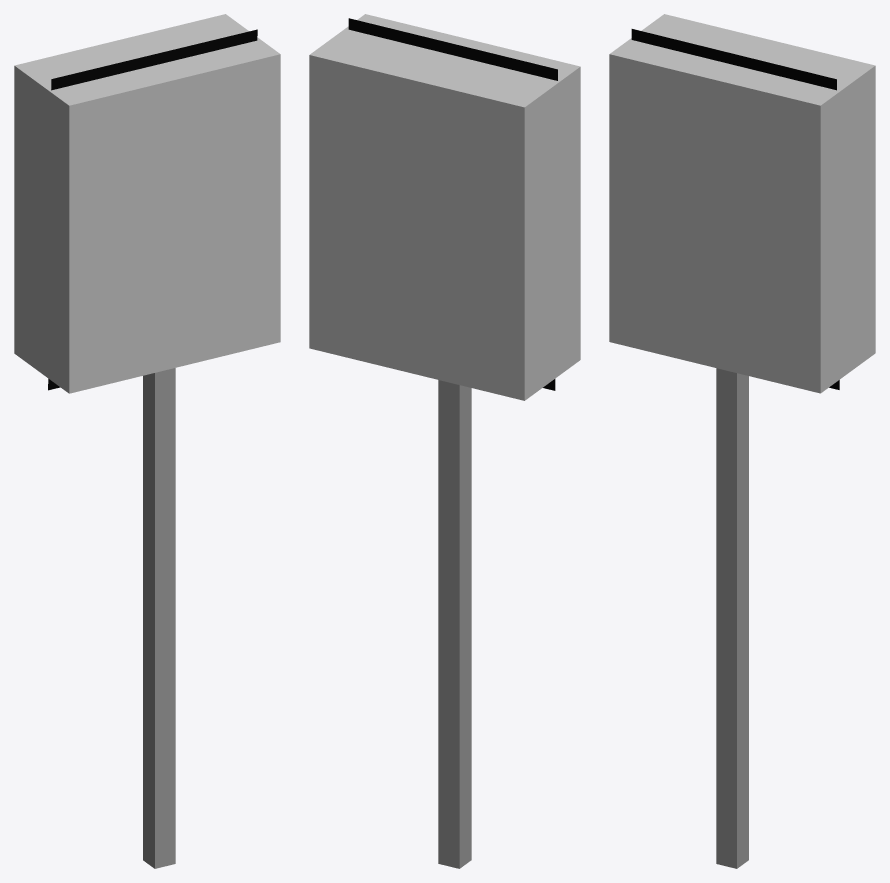
File: rectangleSign.obj
3 renders of one model, left to right at view 1: azimuth 30°, elevation 25°; view 2: azimuth 150°, elevation 25°; view 3: azimuth 330°, elevation 25°, orthographic.
Parts seen in each view (by area): view 1: Cube.002, Cube.001, Plane_Plane.001; view 2: Cube.002, Cube.001, Plane_Plane.001; view 3: Cube.002, Cube.001, Plane_Plane.001.
Part boxes in pixels (left/top/right/bottom): Cube.002: left=14, top=14, right=280, bottom=393; Cube.001: left=143, top=368, right=175, bottom=868; Plane_Plane.001: left=48, top=29, right=257, bottom=390; Cube.002: left=309, top=14, right=580, bottom=400; Cube.001: left=438, top=380, right=471, bottom=868; Plane_Plane.001: left=348, top=18, right=557, bottom=390; Cube.002: left=609, top=14, right=875, bottom=393; Cube.001: left=716, top=368, right=748, bottom=868; Plane_Plane.001: left=631, top=29, right=839, bottom=389.
Bounding box in the file's own units: 2 × 7.29 × 0.9.
